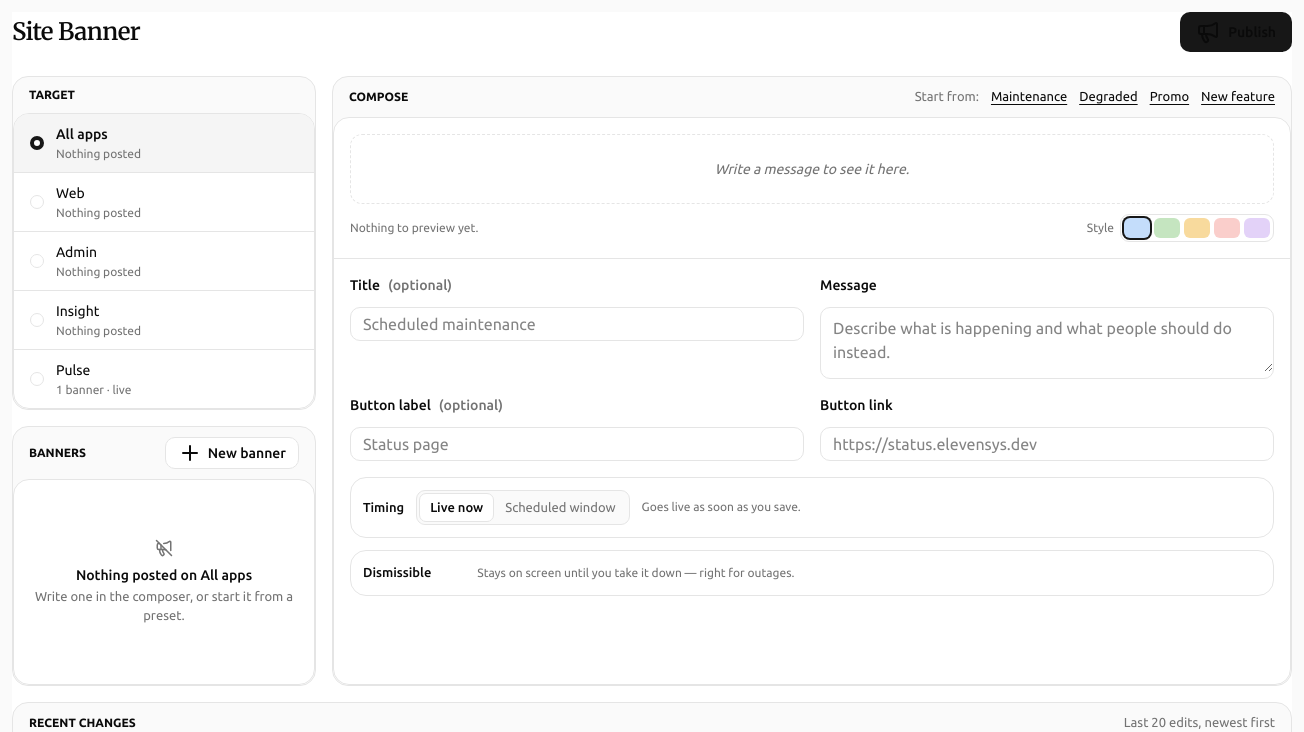
it: SiteBannerForm › loads the saved announcement for a target when switching to it
The image size is (1304, 732).
Click the 6th radio button labelled "Pulse 1 banner · live": (81, 379) [30, 362, 131, 396]
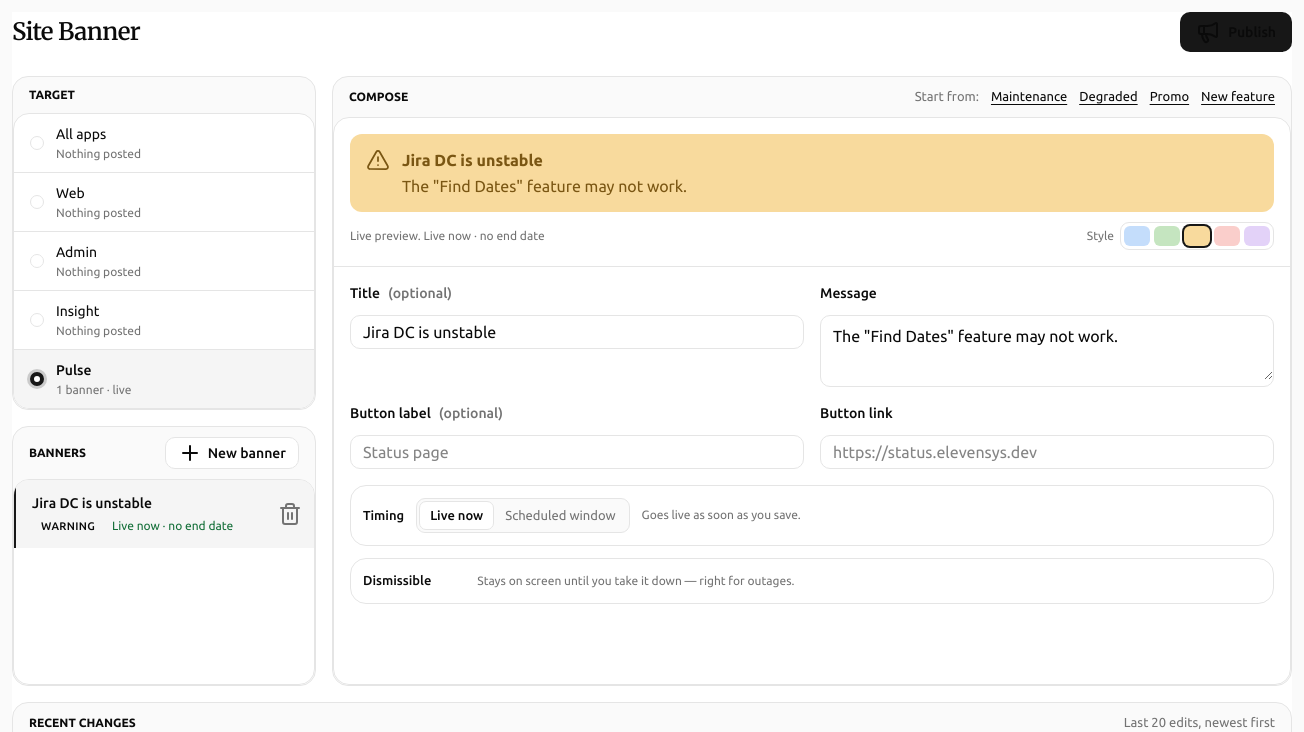
Result: the text box labelled "Message" holds "The \"Find Dates\" feature may not work." at [821, 316, 1273, 380]
Result: the field labelled "Title (optional)" holds "Jira DC is unstable" at [350, 314, 804, 348]
Result: the radio button named "Warning" is checked at [1184, 226, 1210, 246]
